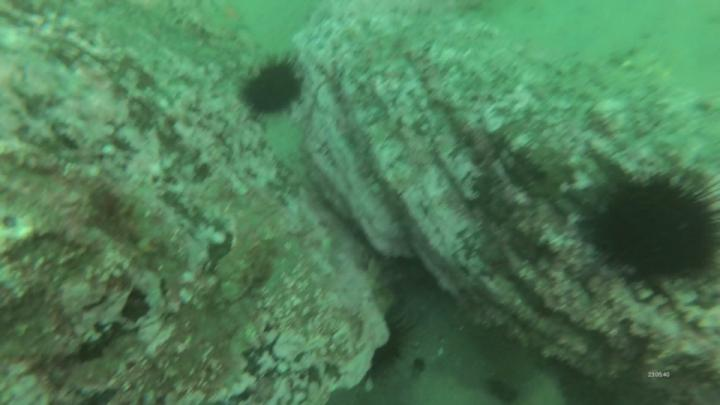echinus: (578, 165, 720, 297), (240, 53, 310, 123), (371, 308, 407, 378)
